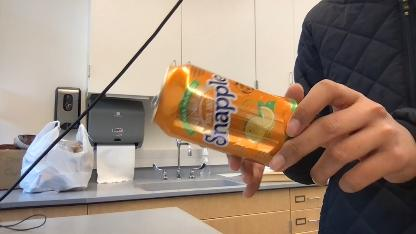Can: (153, 60, 297, 176)
